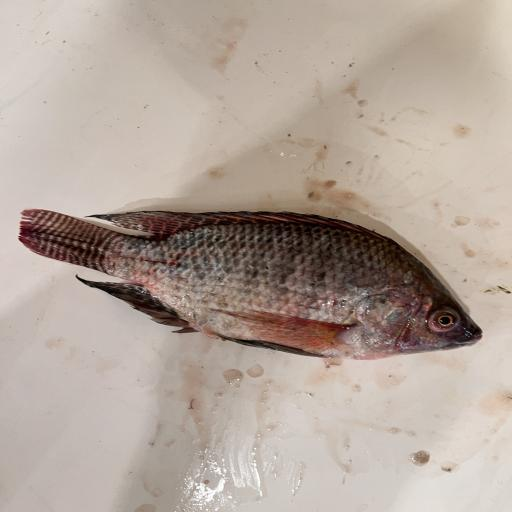Tilapia: (17, 208, 484, 361)
